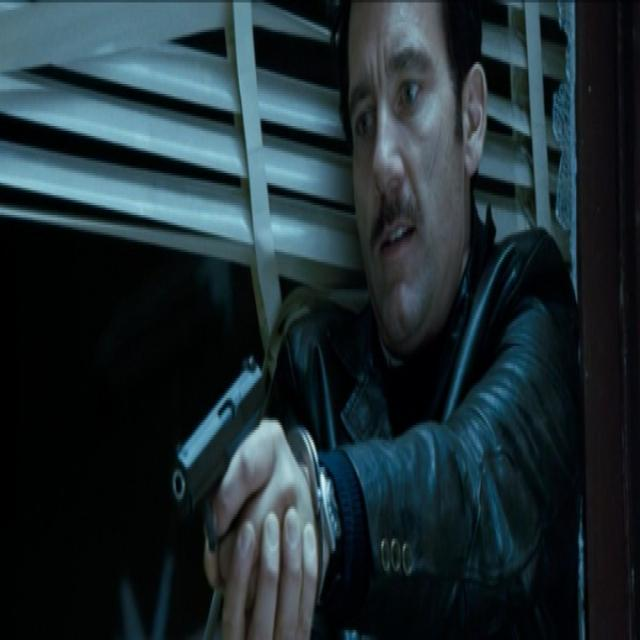weapons: (167, 296, 297, 624)
